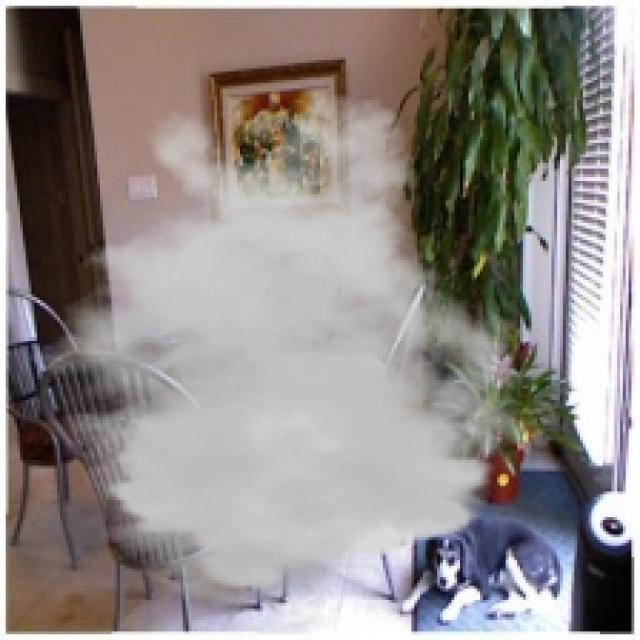Smoke: (3, 91, 546, 608)
